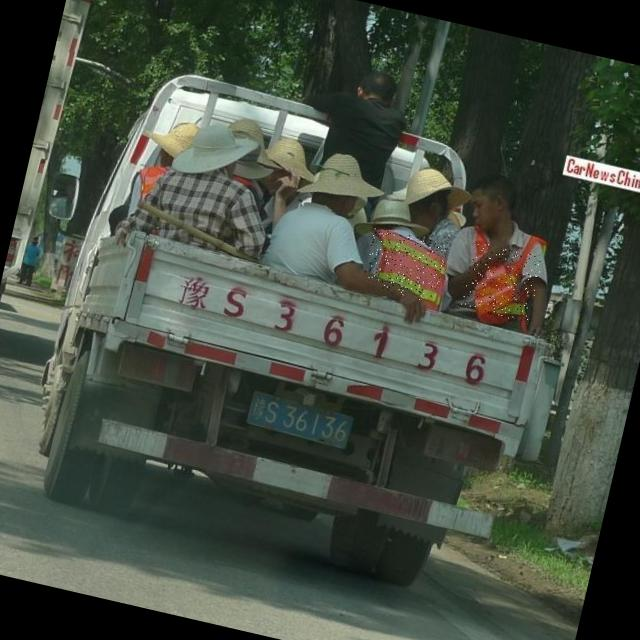safety_vest: (459, 242, 544, 324), (361, 226, 448, 304)
